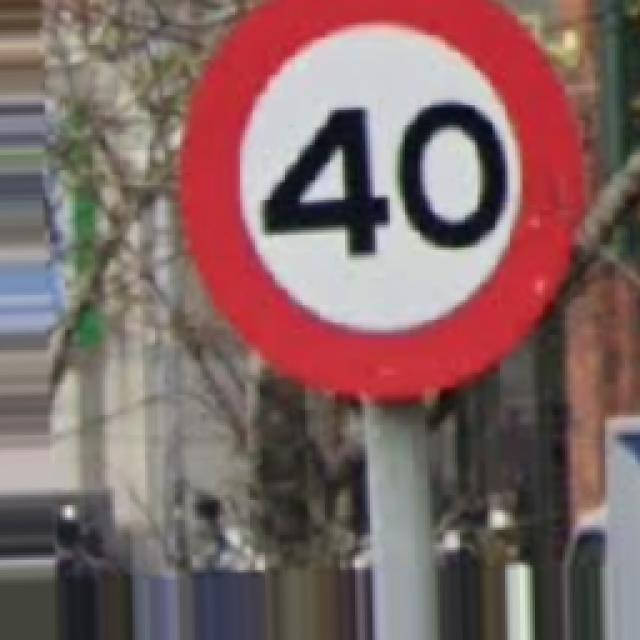Speed Limit -40-: (182, 0, 582, 395)
